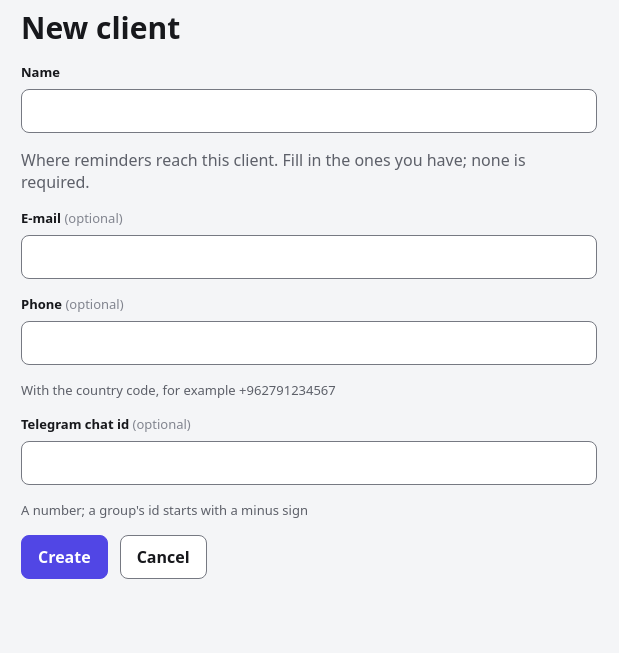
Test: creating a client › shows the server’s refusal and stays on the form
The width and height of the screenshot is (619, 653).
Step 1. Type "Refused" into the field labelled "Name" → (309, 111), box [21,89,597,133]
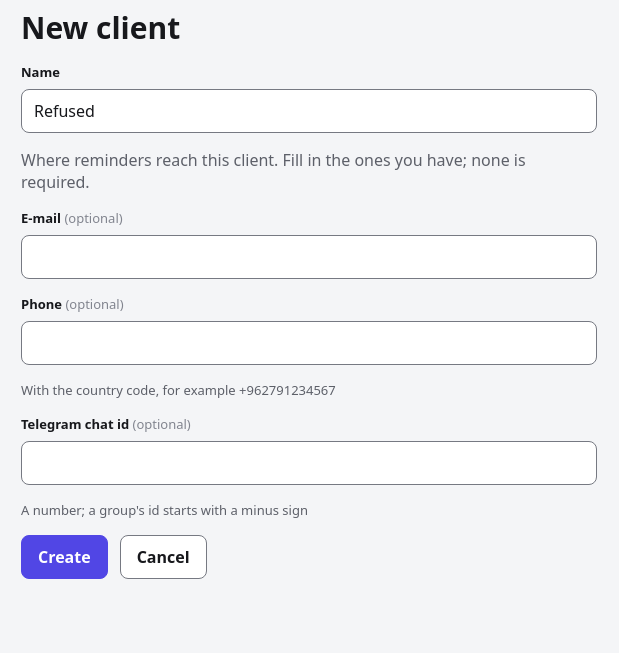
Step 2. Click the button "Create" → (64, 557), box [21,535,108,579]
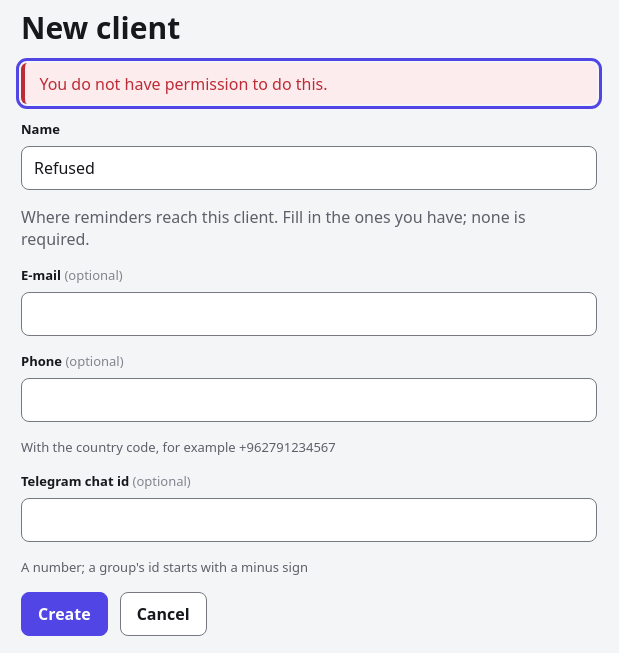
Expected: the message reads "You do not have permission to do this.", [39,73,328,95]
